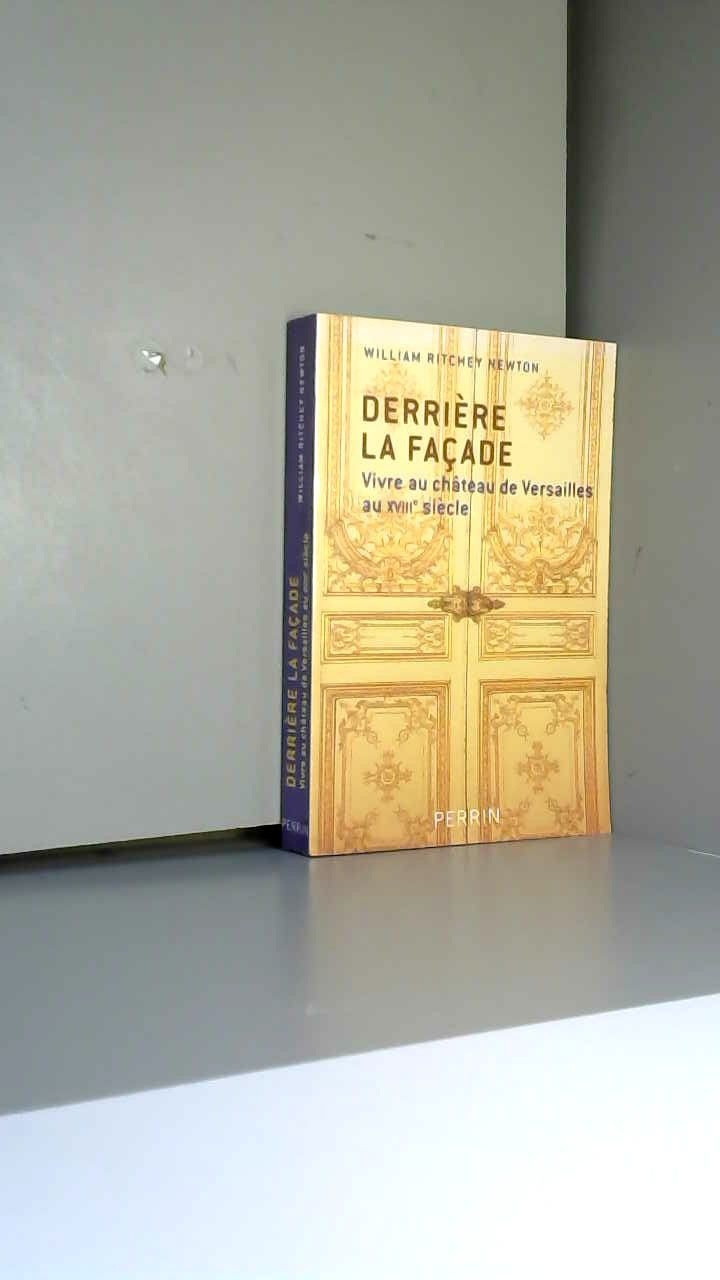book: (250, 290, 717, 899)
